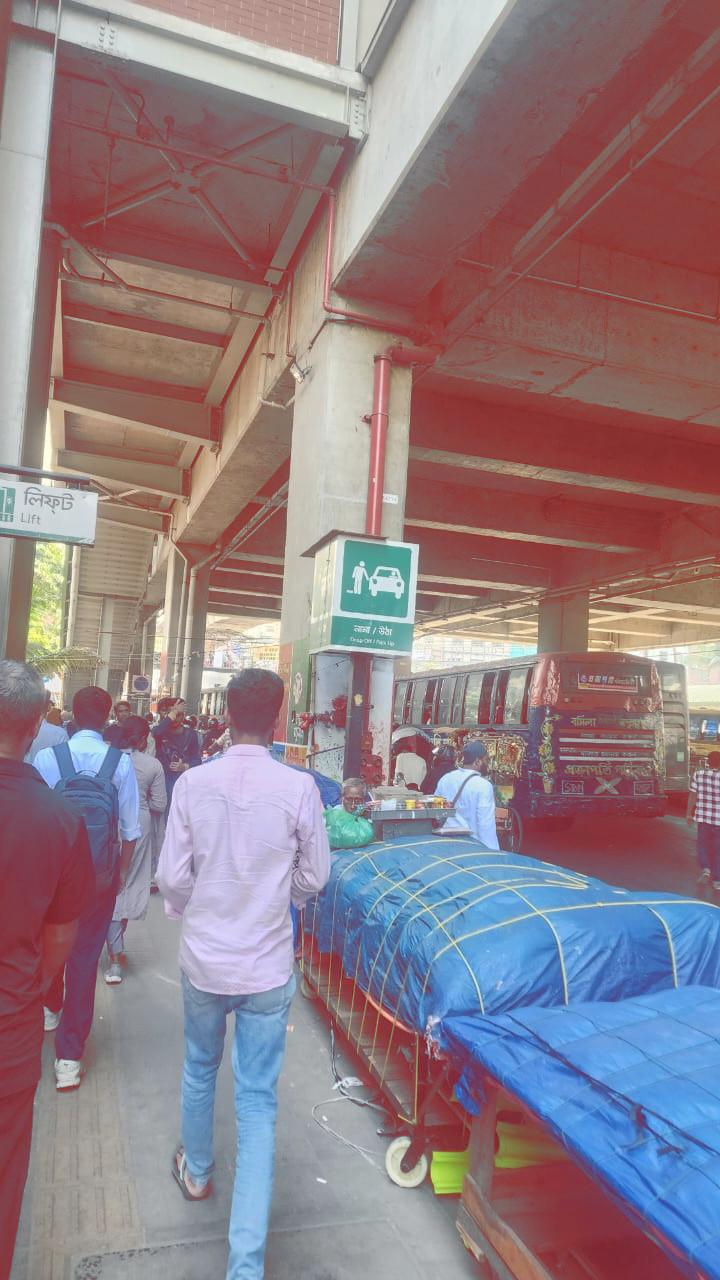Metro Dorp Up Pick up: (296, 538, 424, 666)
